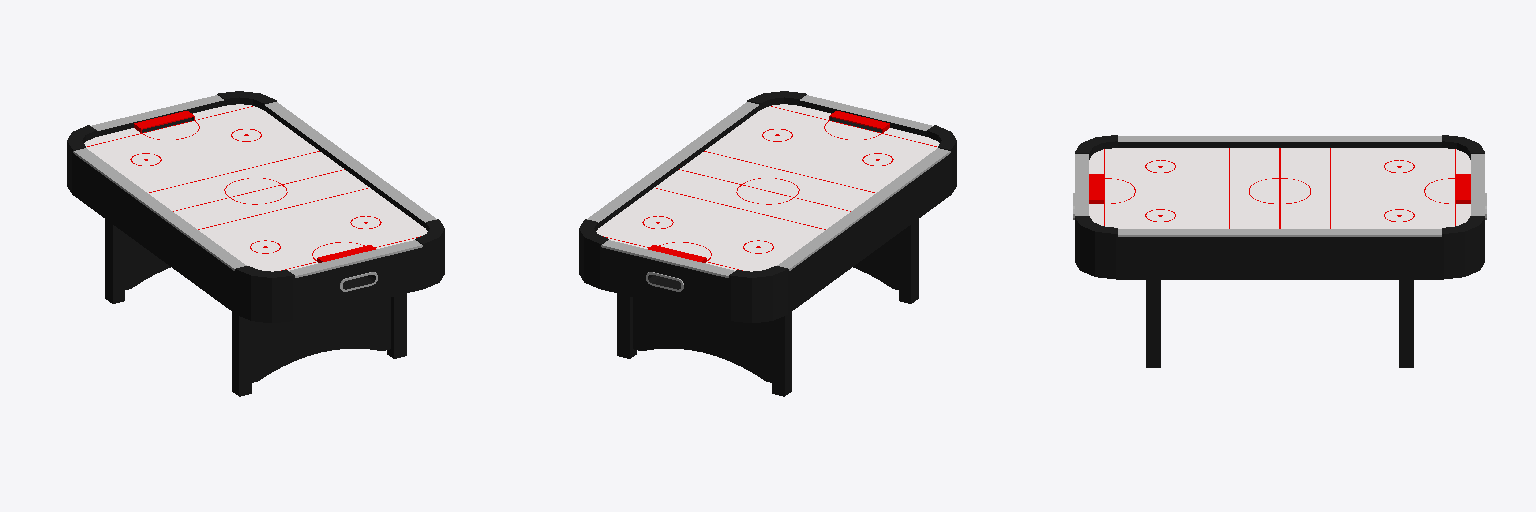
File: hockeytable.obj
3 renders of one model, left to right at view 1: azimuth 30°, elevation 25°; view 2: azimuth 150°, elevation 25°; view 3: azimuth 270°, elevation 25°, orthographic.
Parts seen in each view (by area): view 1: hockeytable.obj; view 2: hockeytable.obj; view 3: hockeytable.obj.
Boxes of the visible parts, x1=… form: hockeytable.obj: x1=67, y1=91, x2=444, y2=396; hockeytable.obj: x1=579, y1=91, x2=956, y2=396; hockeytable.obj: x1=1073, y1=135, x2=1486, y2=367.
Bounding box in the file's own units: 48 × 32.25 × 84.5.